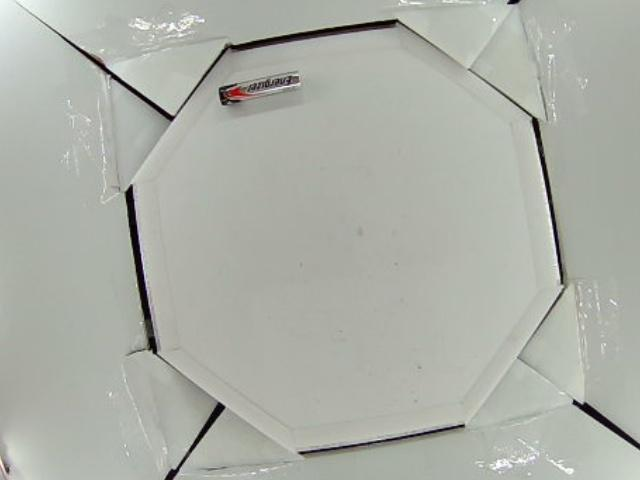Battery: (218, 69, 303, 107)
